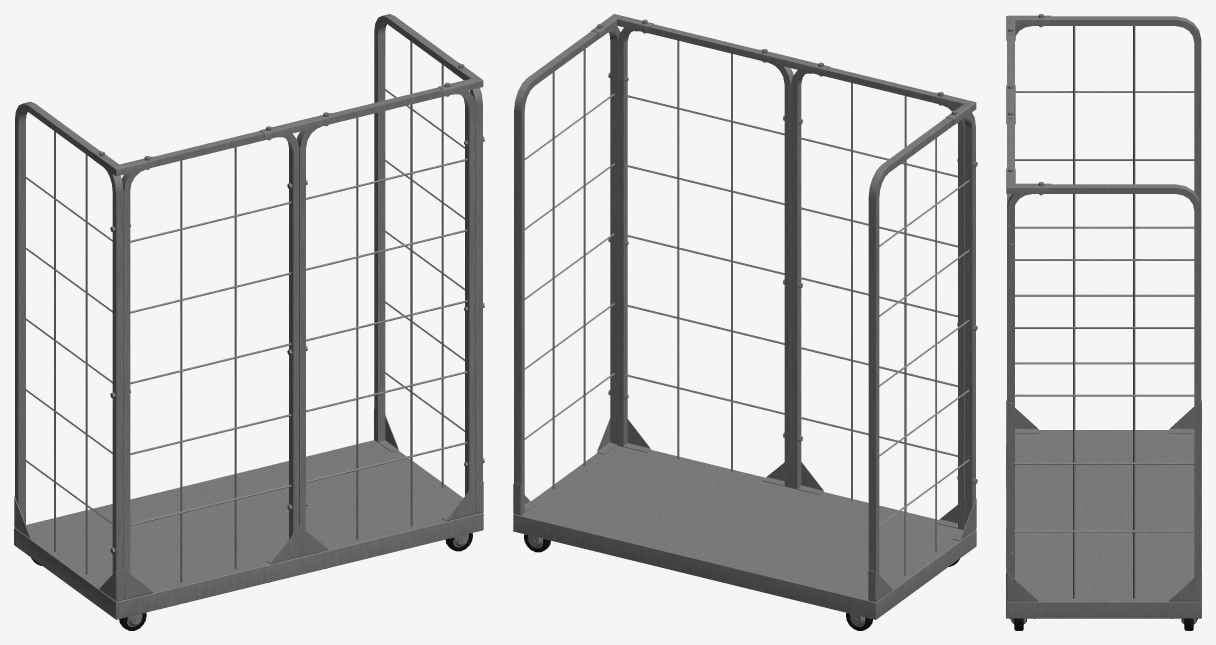
Rendered from cargo_LoadingCart.glb.
The picture shows the model from 3 angles, left to right: view 1: azimuth 30°, elevation 25°; view 2: azimuth 150°, elevation 25°; view 3: azimuth 270°, elevation 25°; orthographic projection. The views are drawn at different scales.
Visible parts, largest first — view 1: Cart_PLate, Cart_Barrier, Cart_Net, Cart_junctions, Cart_Poles, Cart_Wheels; view 2: Cart_PLate, Cart_Barrier, Cart_Net, Cart_junctions, Cart_Poles, Cart_Wheels; view 3: Cart_PLate, Cart_Barrier, Cart_Net, Cart_junctions, Cart_Poles, Cart_Wheels.
Boxes of the visible parts, x1,y1,x2,y2 form: Cart_PLate: (14,440,483,619); Cart_Barrier: (15,14,482,573); Cart_Net: (21,41,467,582); Cart_junctions: (14,409,483,601); Cart_Poles: (92,63,483,176); Cart_Wheels: (31,533,472,630); Cart_PLate: (513,445,976,619); Cart_Barrier: (514,24,975,574); Cart_Net: (524,40,969,575); Cart_junctions: (513,415,976,601); Cart_Poles: (590,14,976,124); Cart_Wheels: (524,534,959,630); Cart_PLate: (1006,430,1201,618); Cart_Barrier: (1007,16,1201,577); Cart_Net: (1014,26,1194,598); Cart_junctions: (1006,400,1201,601); Cart_Poles: (1006,15,1051,193); Cart_Wheels: (1010,618,1197,630).
Size of the model in its own units: 1.51 by 1.84 by 0.7219.
1 material, 1 textured.
